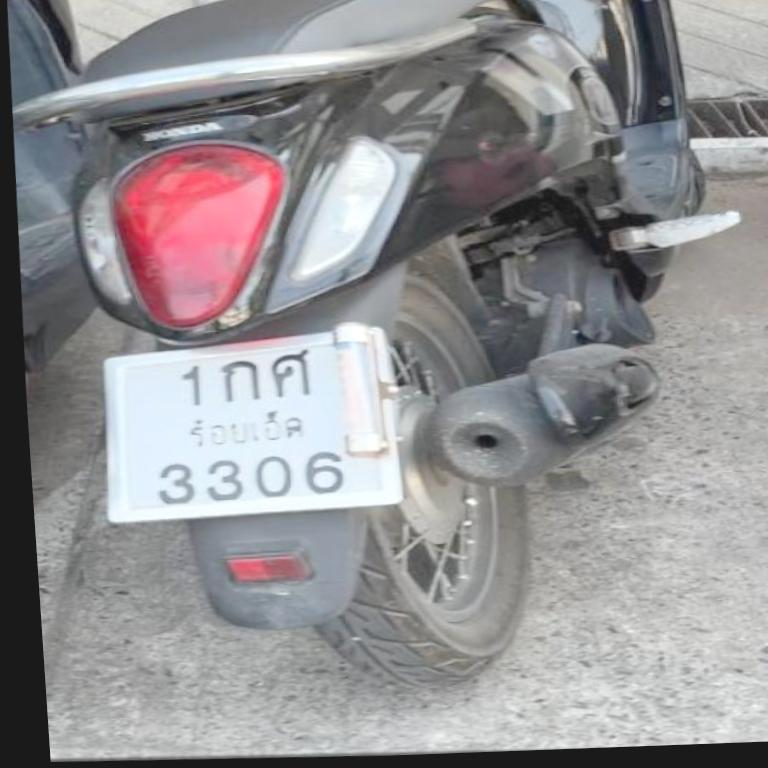license plate: (103, 327, 400, 521)
